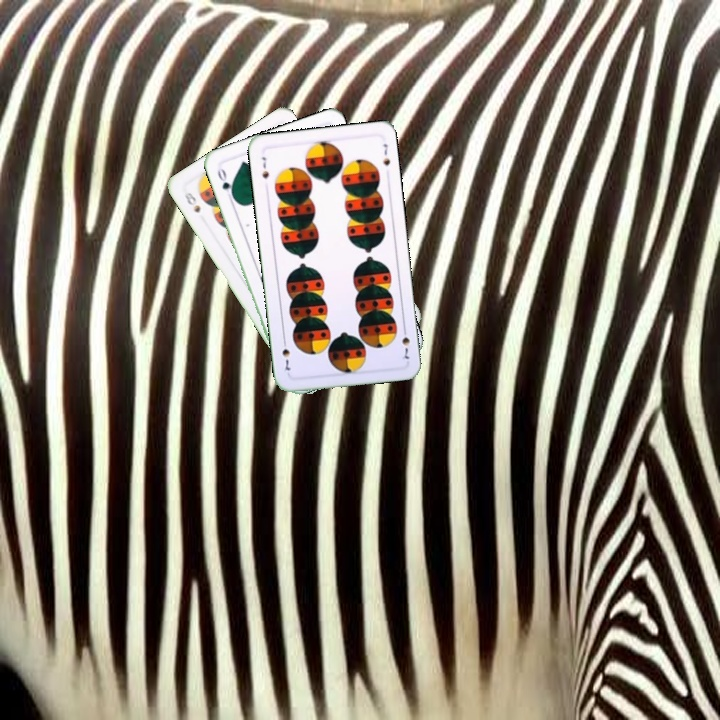GO: (213, 163, 237, 203)
S7: (398, 323, 412, 362), (257, 153, 271, 181)
S8: (180, 188, 203, 216)
